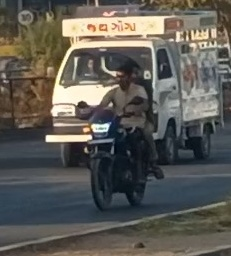BikeWithRider: (72, 59, 173, 216)
NoHelmet: (114, 61, 135, 89), (128, 64, 144, 86)
